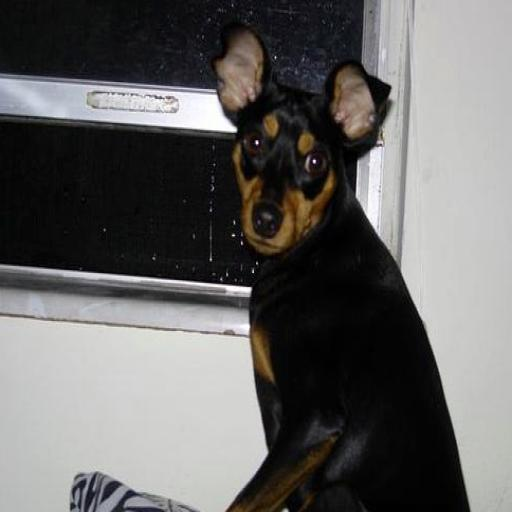dog_face: (210, 24, 392, 266)
